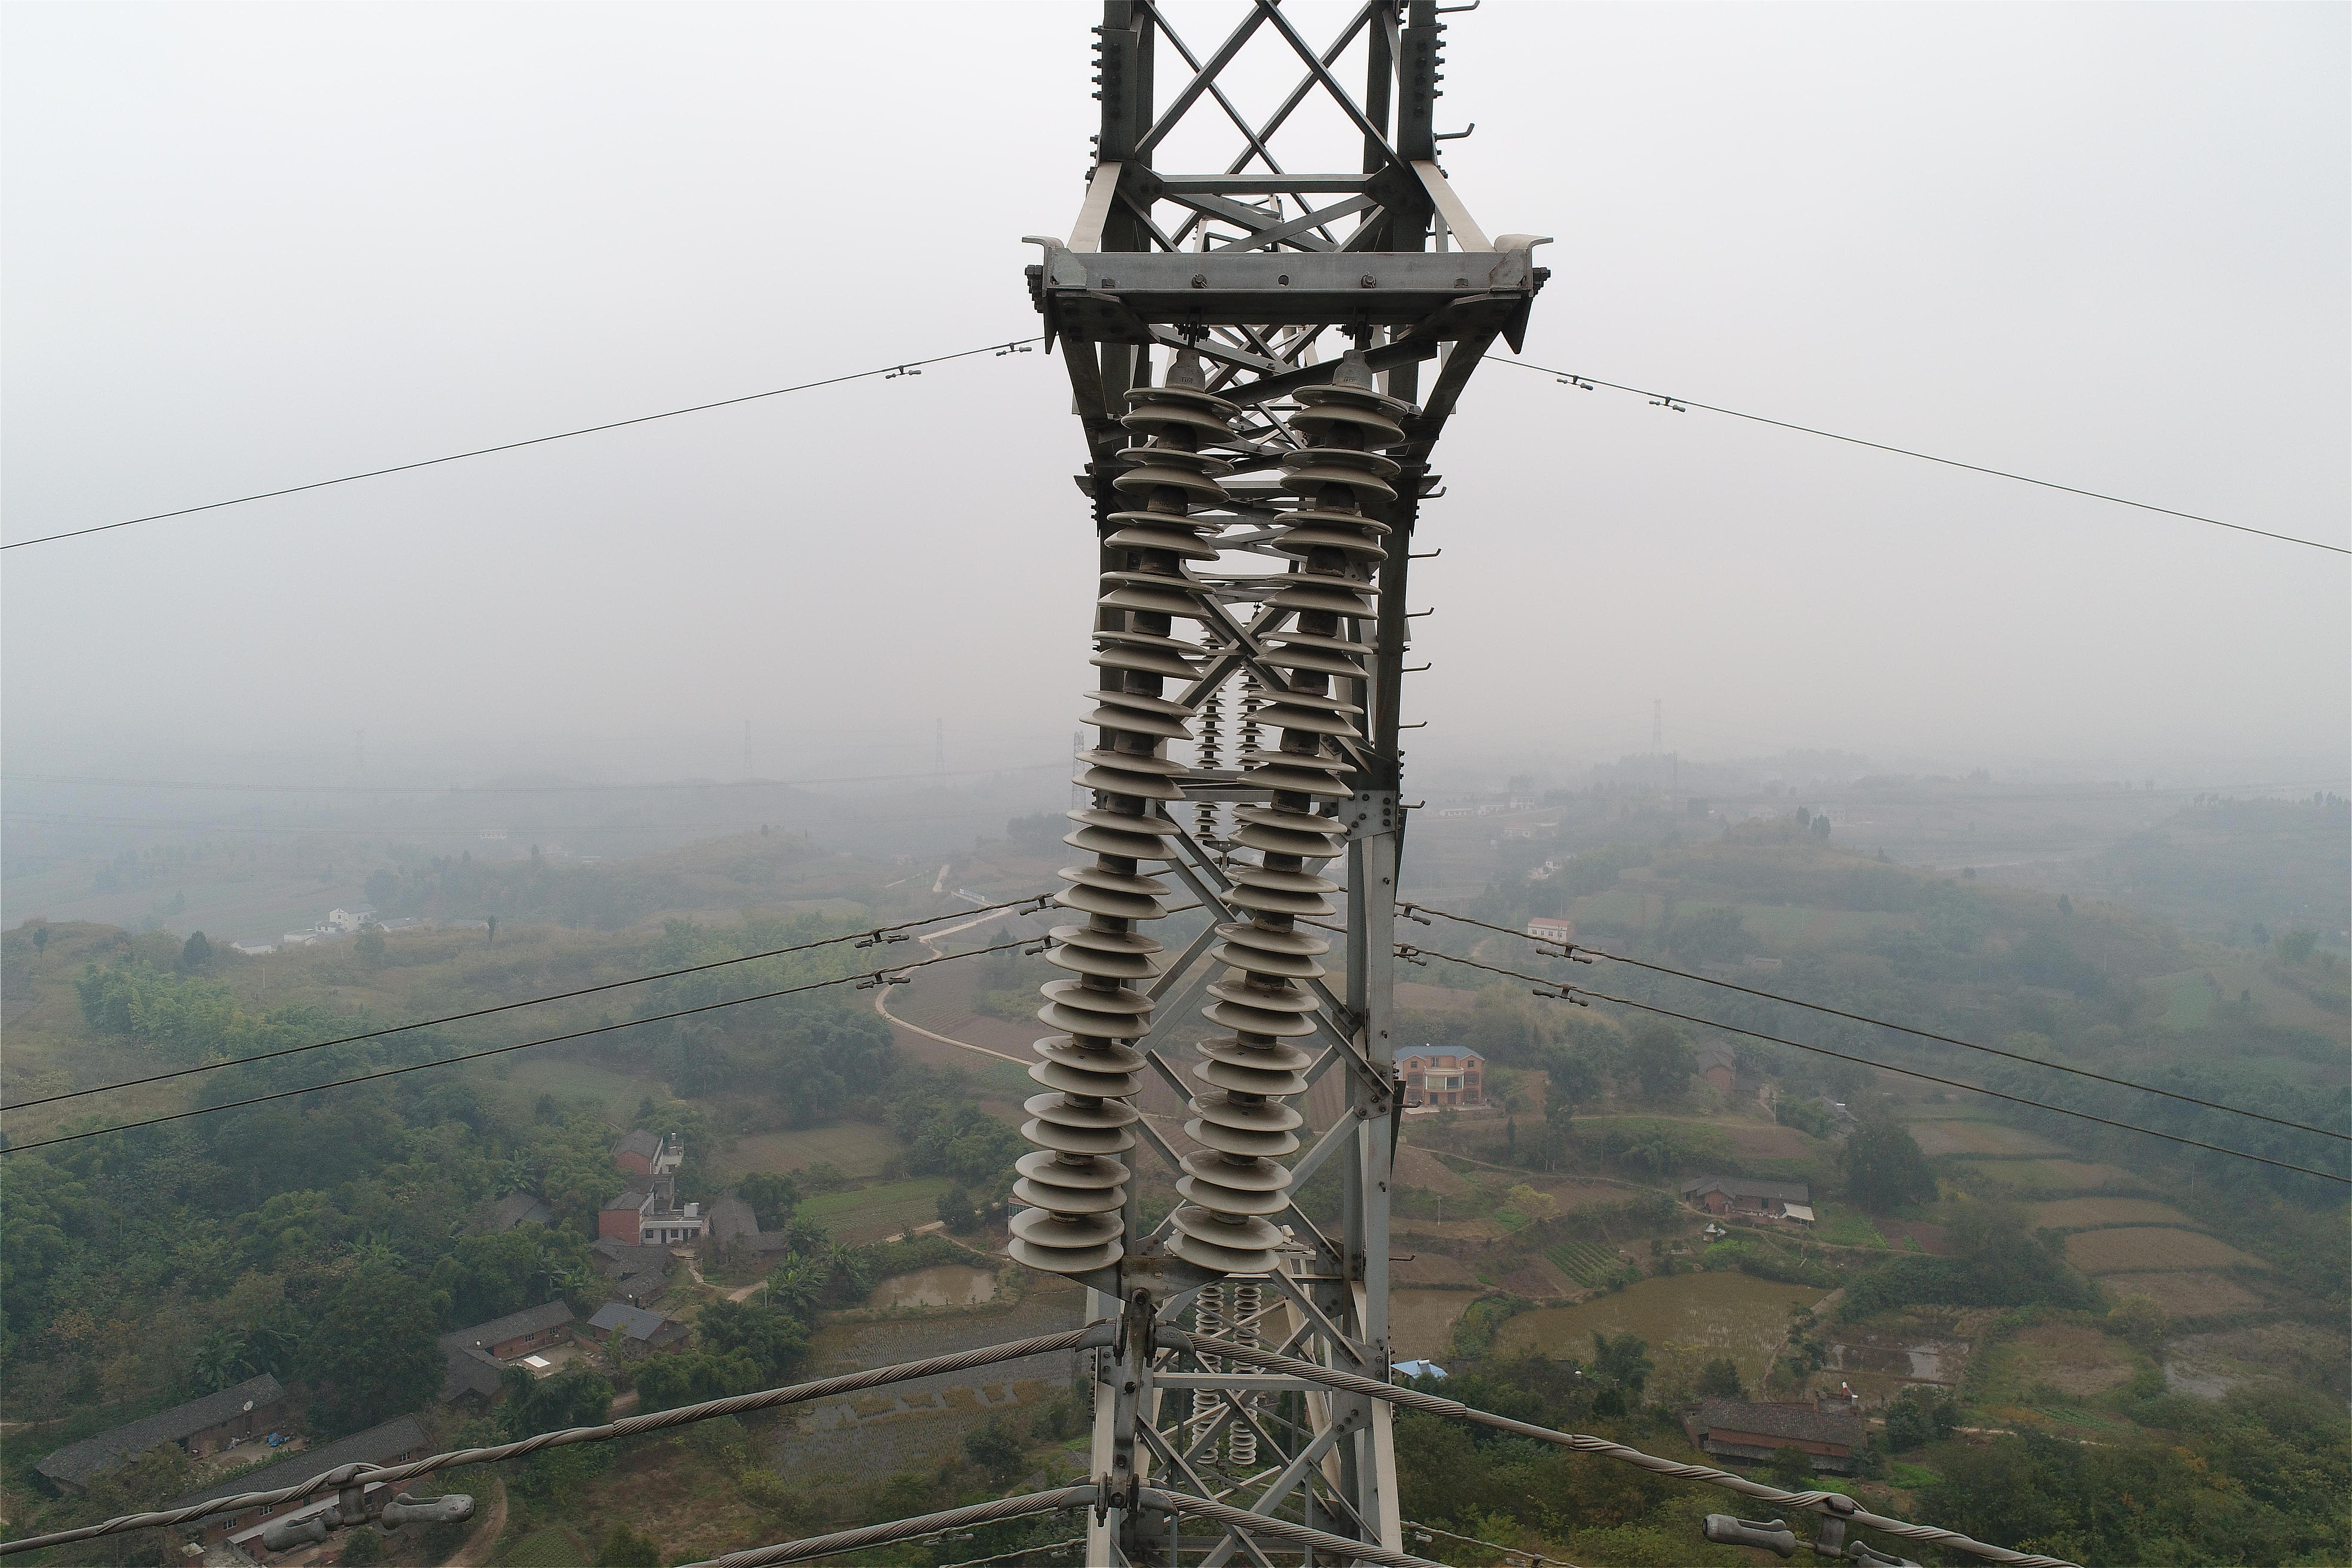insultor4: (969, 318, 1382, 1288)
